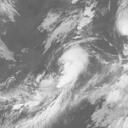cyclone: (56, 44, 89, 88)
